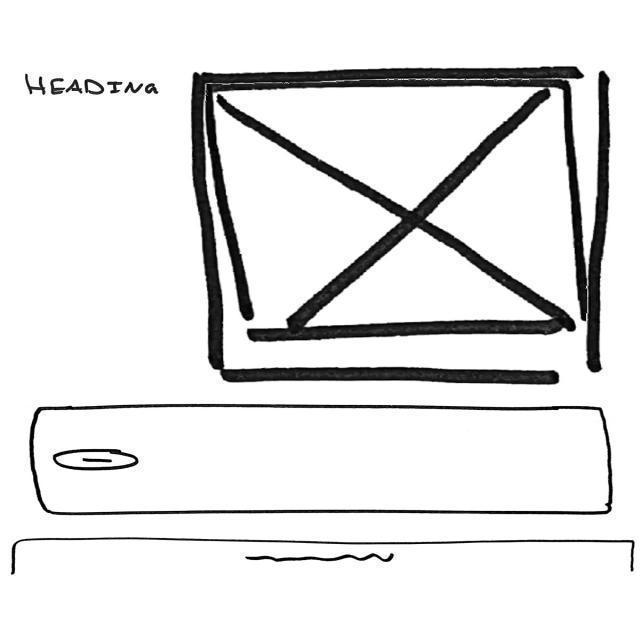container: (191, 71, 611, 387)
icon-button: (50, 450, 143, 473)
image: (209, 83, 584, 341)
label: (22, 75, 163, 99)
text: (247, 550, 401, 567)
